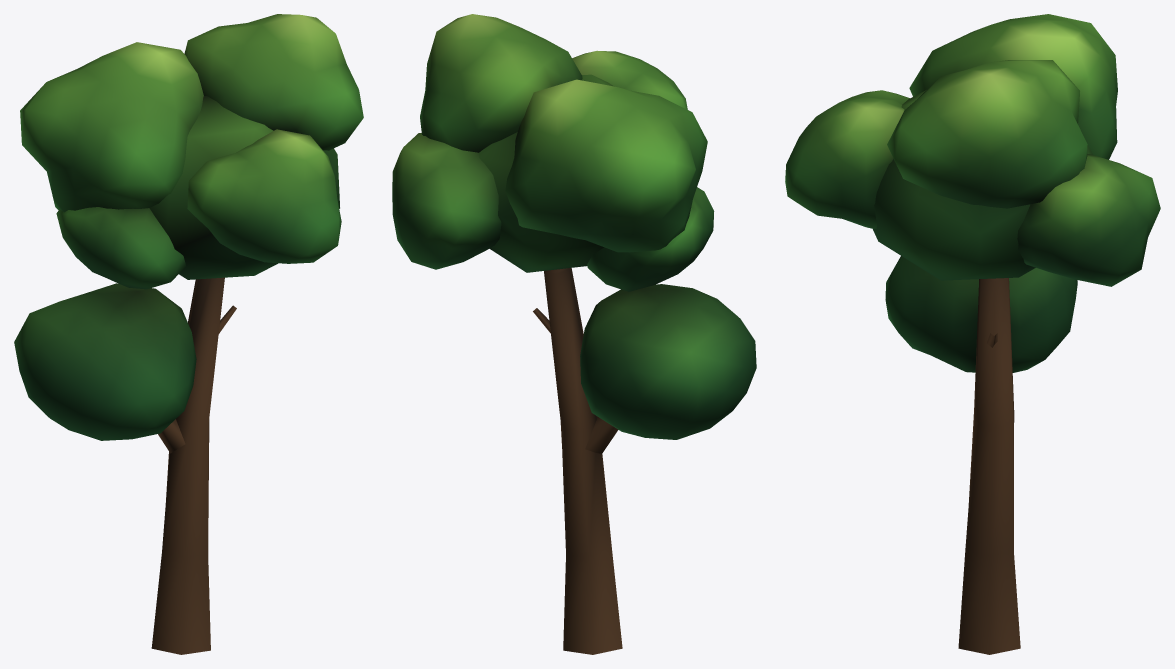
File: tree-sapling-v3.glb
3 renders of one model, left to right at view 1: azimuth 30°, elevation 25°; view 2: azimuth 150°, elevation 25°; view 3: azimuth 270°, elevation 25°, orthographic. The views are drawn at different scales.
Visible parts, largest first — view 1: 1_leaves, 0_trunk; view 2: 1_leaves, 0_trunk; view 3: 1_leaves, 0_trunk.
Part boxes in pixels (bbox=[...]): 1_leaves: bbox=[14, 14, 363, 440]; 0_trunk: bbox=[151, 277, 236, 654]; 1_leaves: bbox=[392, 14, 756, 439]; 0_trunk: bbox=[533, 268, 622, 654]; 1_leaves: bbox=[785, 14, 1160, 372]; 0_trunk: bbox=[958, 278, 1020, 654].
Size of the model in its own units: 0.8233 by 1.53 by 0.831.
